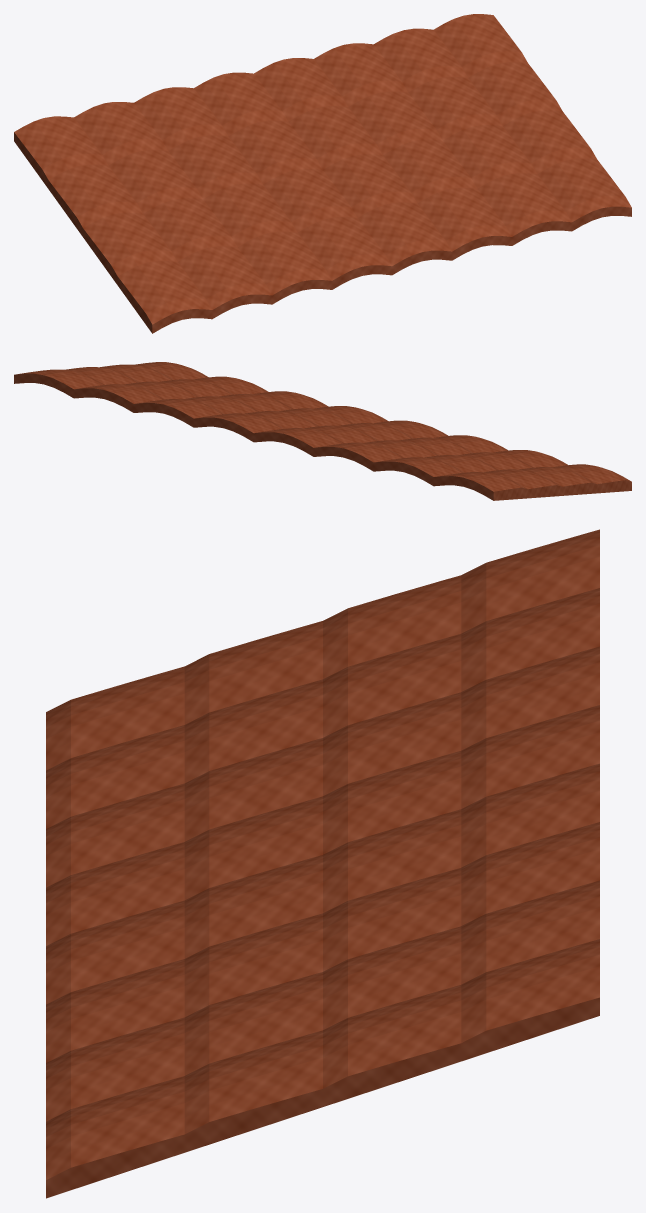
Rendered from MRP_Roof_Porch_2x1m.fbx.
3 views of the same model, one above another, from view 1: azimuth 30°, elevation 25°; view 2: azimuth 150°, elevation 25°; view 3: azimuth 270°, elevation 25° (orthographic). The views are drawn at different scales.
Parts seen in each view (by area): view 1: Body; view 2: Body; view 3: Body.
Part boxes in pixels (<box>): Body: <box>14,14,631,333</box>; Body: <box>14,362,631,500</box>; Body: <box>46,529,599,1198</box>.
Size of the model in its own units: 2 by 0.4275 by 1.
